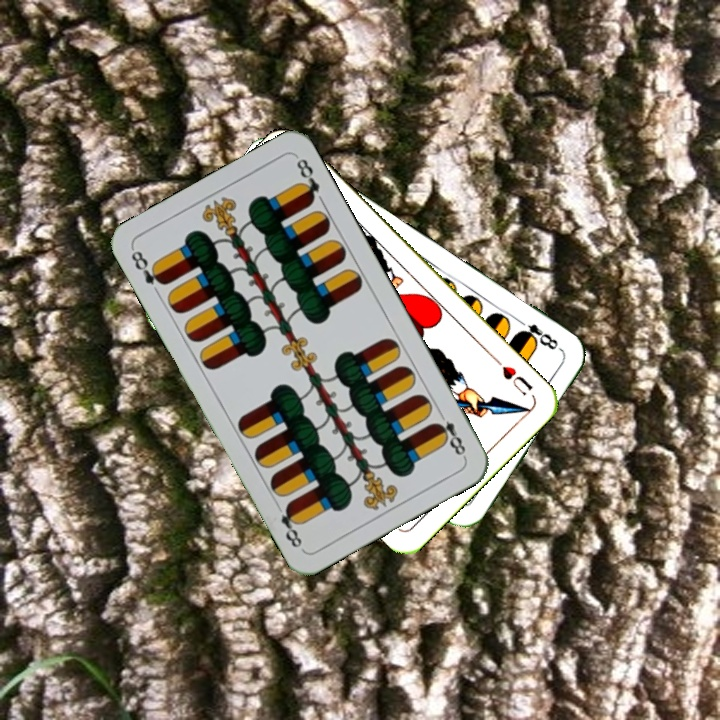E8: (430, 406, 469, 461), (512, 314, 564, 354), (127, 245, 169, 288)
HU: (490, 354, 535, 398)
